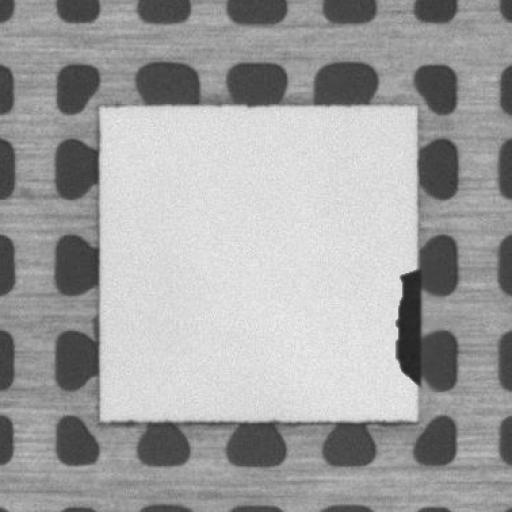DIE_BROKEN: (388, 263, 422, 385)
